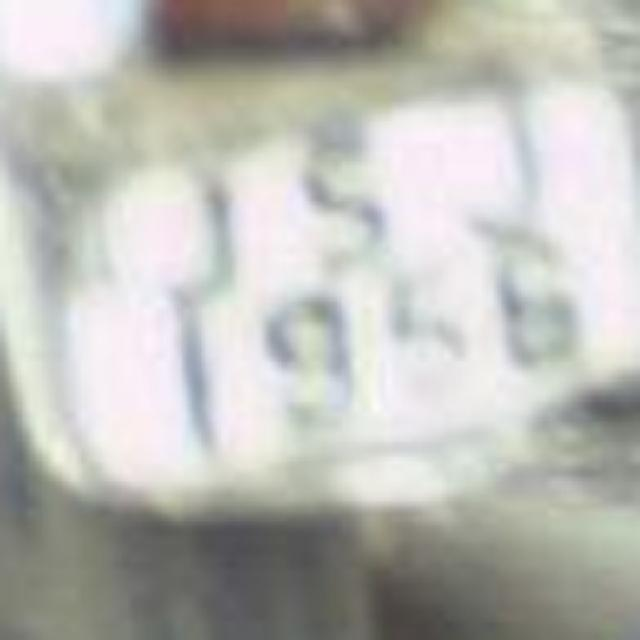1: (145, 280, 260, 468)
5: (360, 235, 492, 420)
6: (460, 200, 595, 385)
9: (236, 264, 384, 451)
J: (132, 140, 256, 305)
